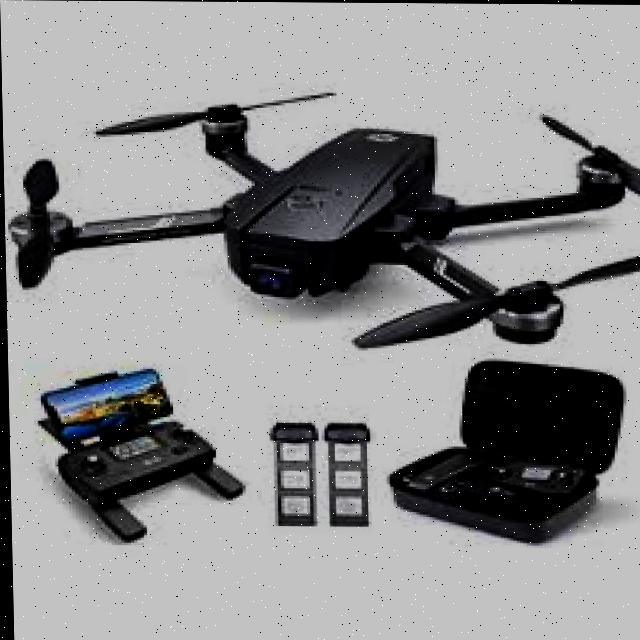drone: (1, 70, 640, 368)
